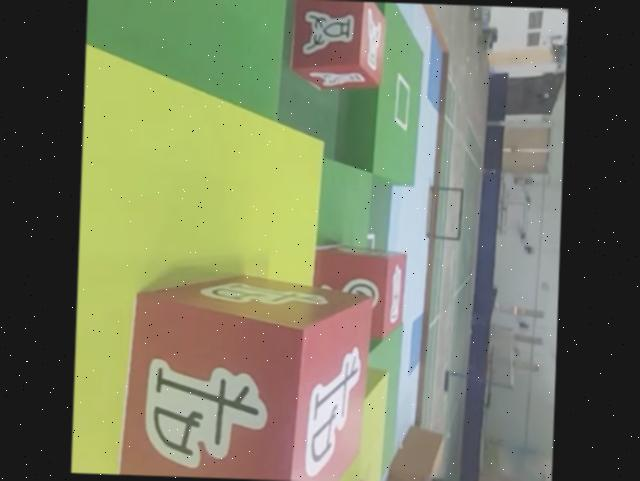R2 Real: (117, 265, 377, 481), (286, 0, 388, 92)
